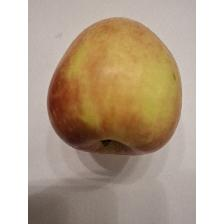Apfel: (45, 13, 185, 159)
